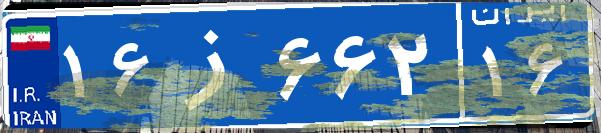1: (57, 26, 110, 107), (475, 38, 525, 113)
2: (385, 28, 445, 110)
6: (273, 28, 330, 110), (330, 28, 385, 110), (110, 28, 158, 105), (525, 38, 570, 115)
ز: (158, 15, 273, 115)
